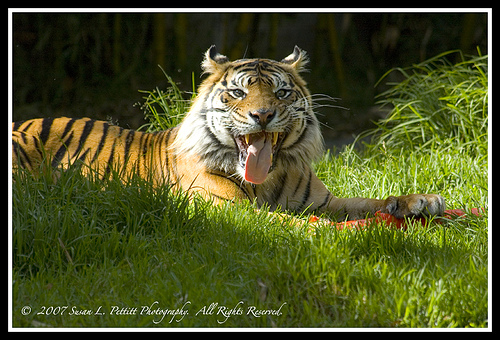Tigre: (30, 32, 336, 218)
